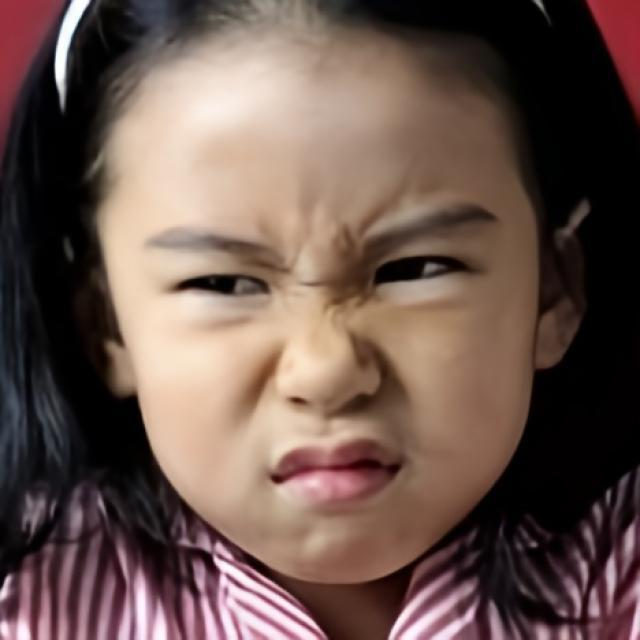disgust: (90, 1, 538, 586)
